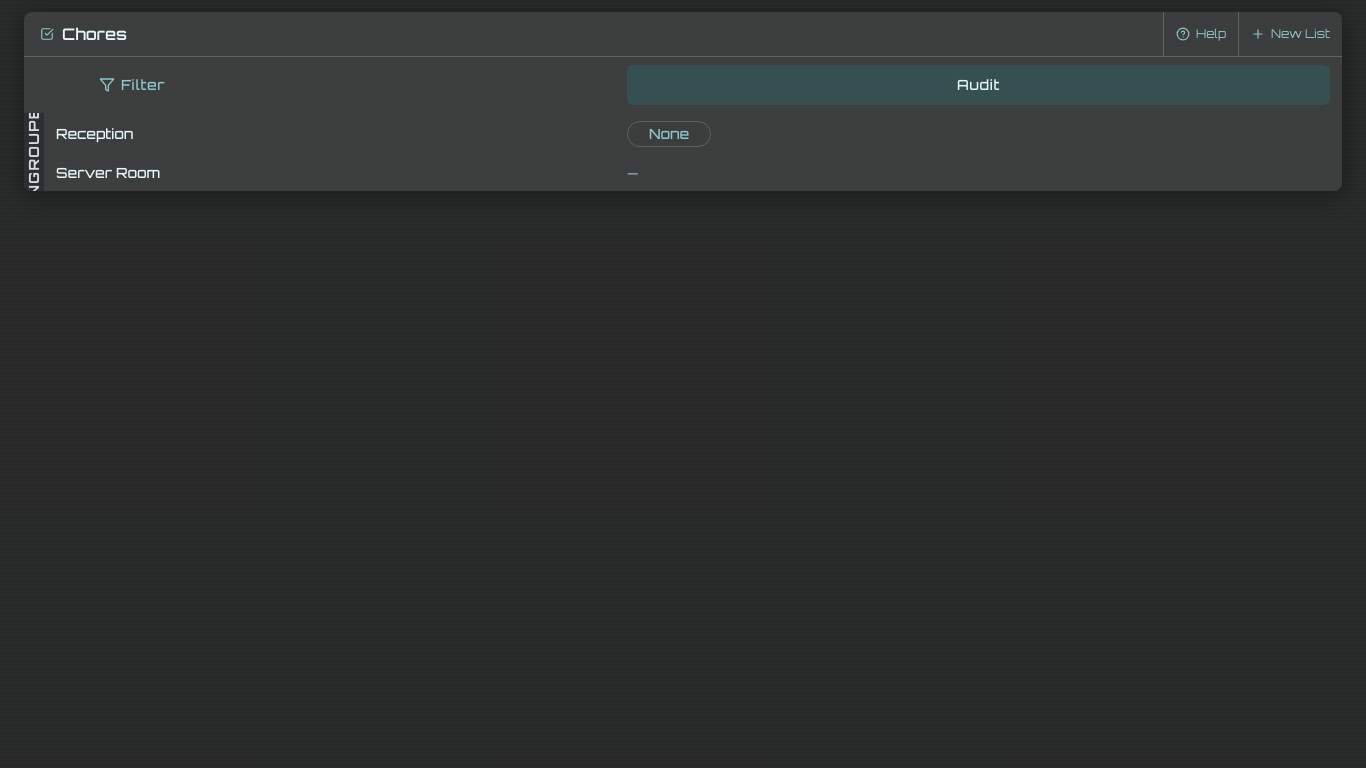
it: ChoreListsView – column header edit dialog › opens the edit dialog with the list title pre-filled when clicking the header
The width and height of the screenshot is (1366, 768).
Click the button "Audit": [979, 85] box [627,65,1330,105]
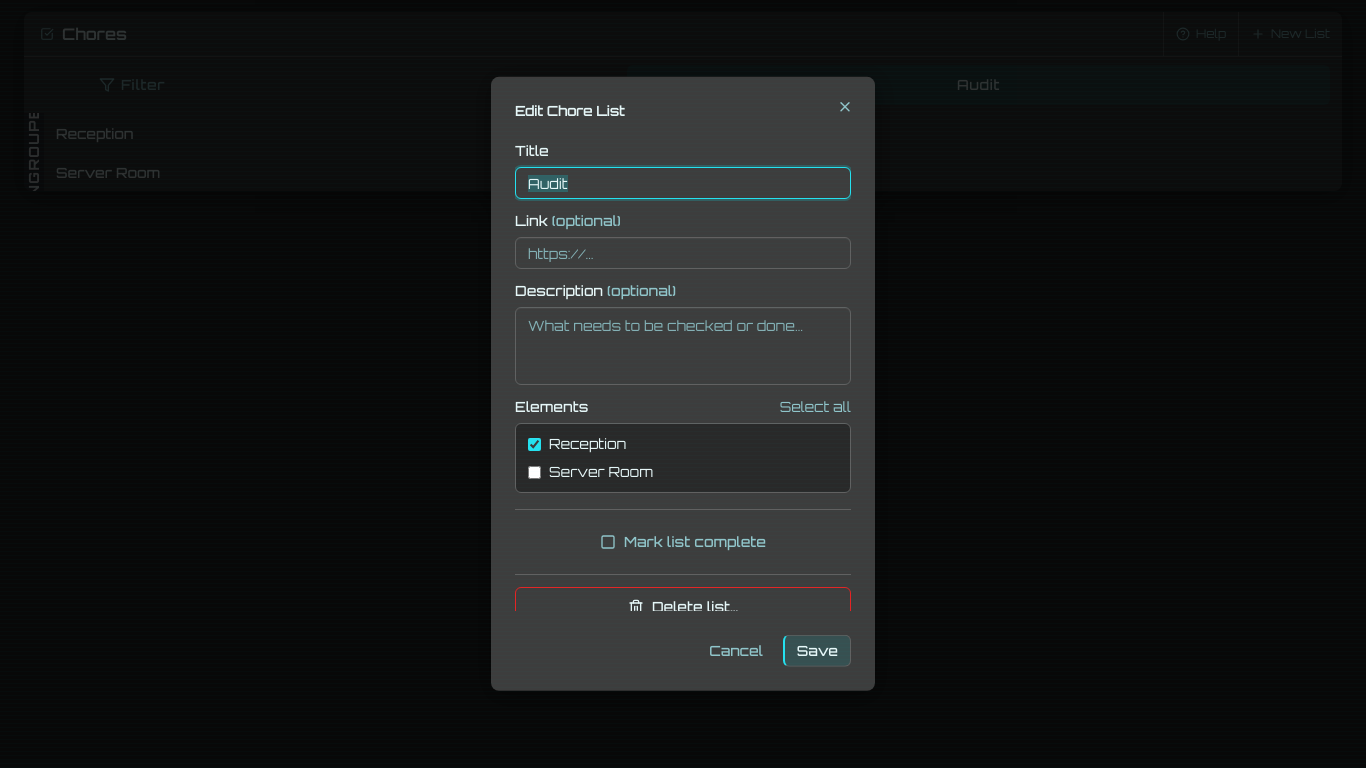
Now the field labelled "Title" holds "Audit", box [515,167,851,199]
